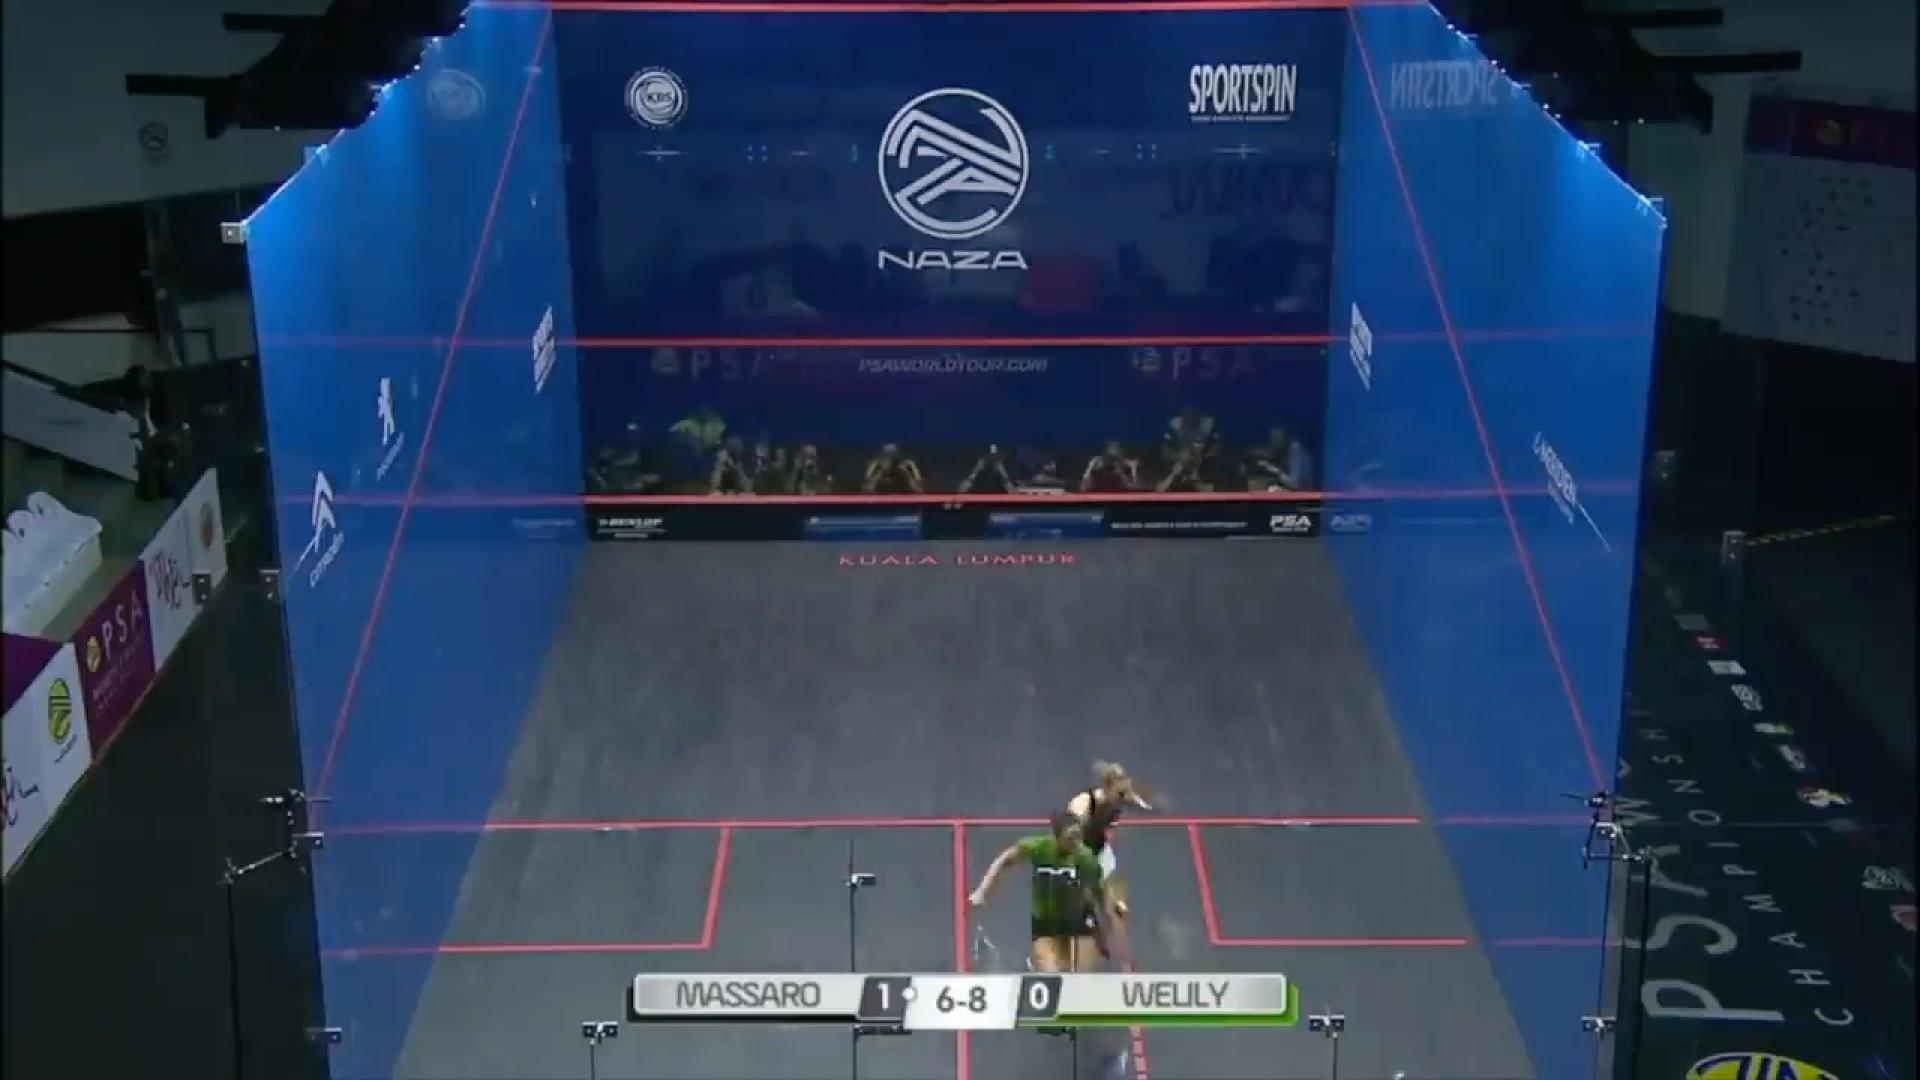Squash-Ball: (1362, 1052, 1432, 1080)
